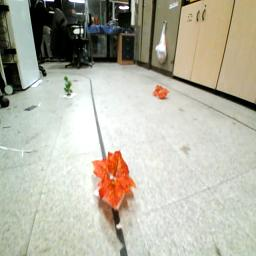herb: (63, 76, 75, 98)
wild: (92, 149, 140, 208), (153, 85, 171, 100)
